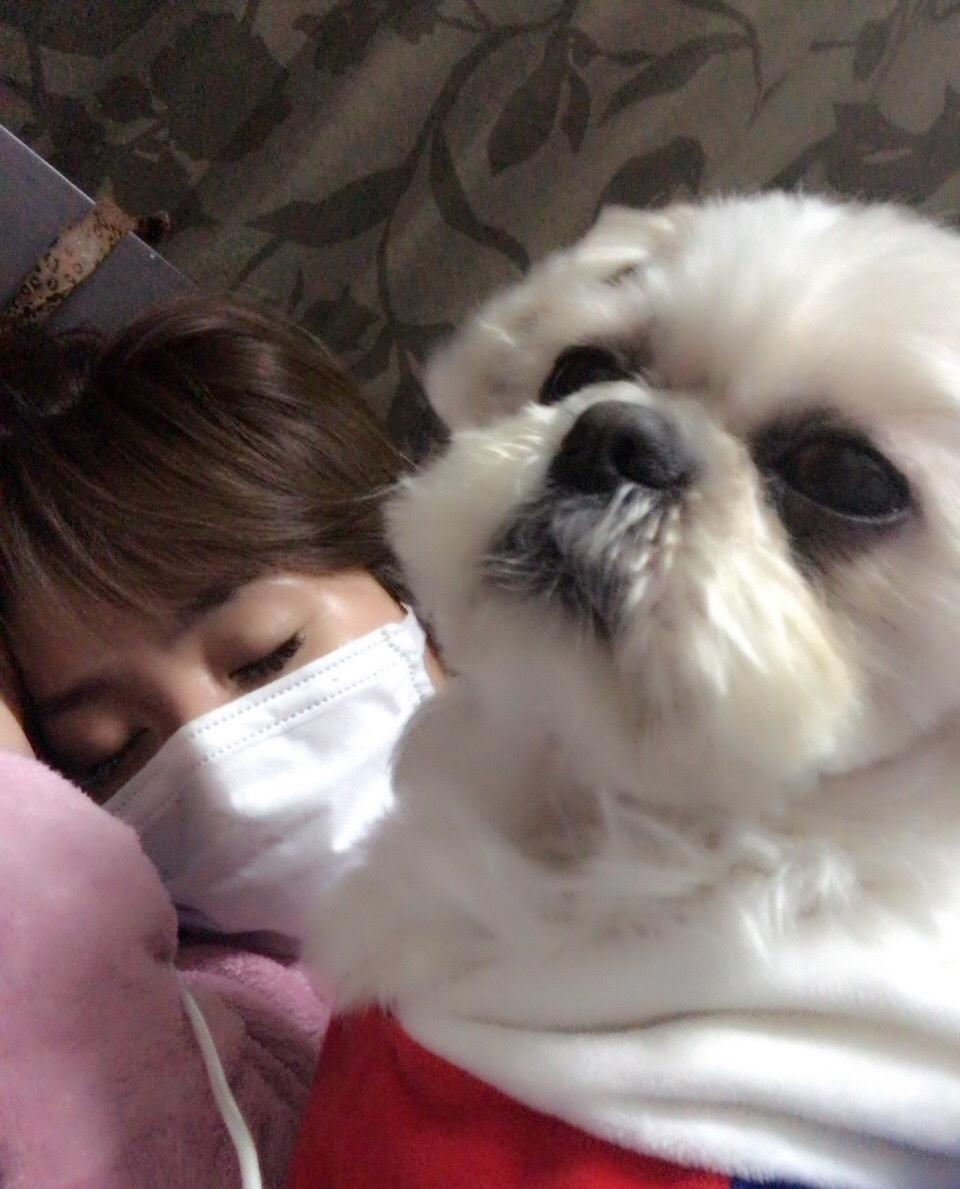OK: (20, 540, 421, 941)
